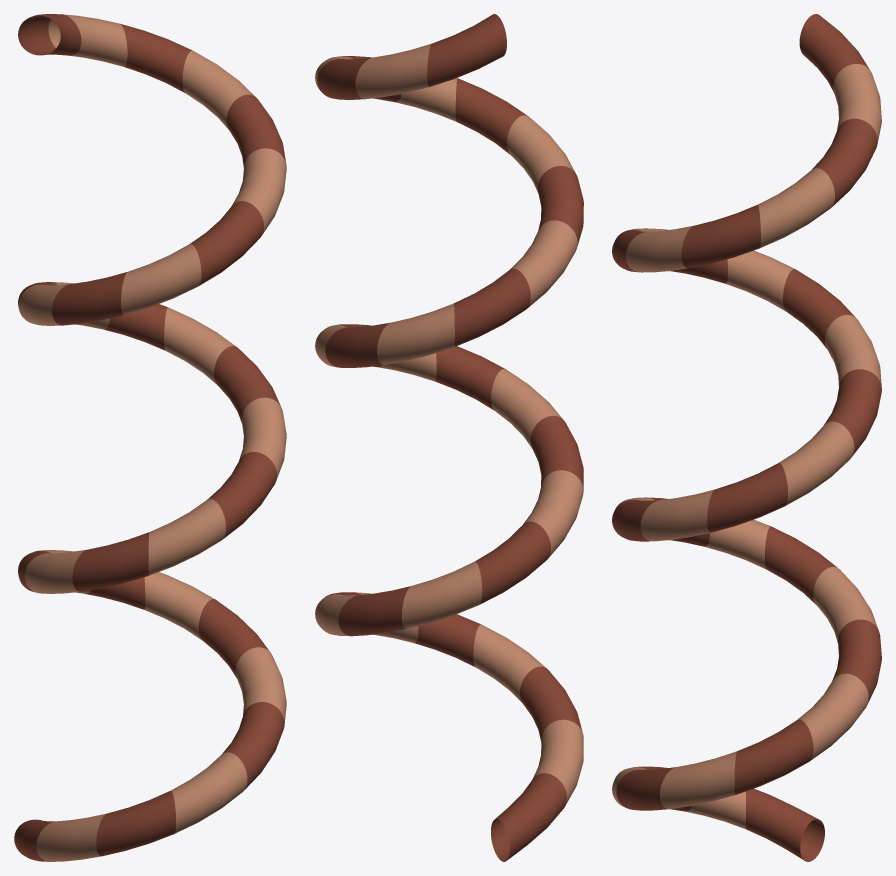
Rendered from spiralB.fbx.
3 renders of one model, left to right at view 1: azimuth 30°, elevation 25°; view 2: azimuth 150°, elevation 25°; view 3: azimuth 270°, elevation 25°, orthographic.
Parts seen in each view (by area): view 1: spiral_light.003; view 2: spiral_light.003; view 3: spiral_light.003.
Boxes of the visible parts, x1,y1,x2,y2 form: spiral_light.003: (14, 14, 286, 861); spiral_light.003: (315, 14, 583, 861); spiral_light.003: (612, 14, 881, 861).
Bounding box in the file's own units: 1215 × 4209 × 1216.
